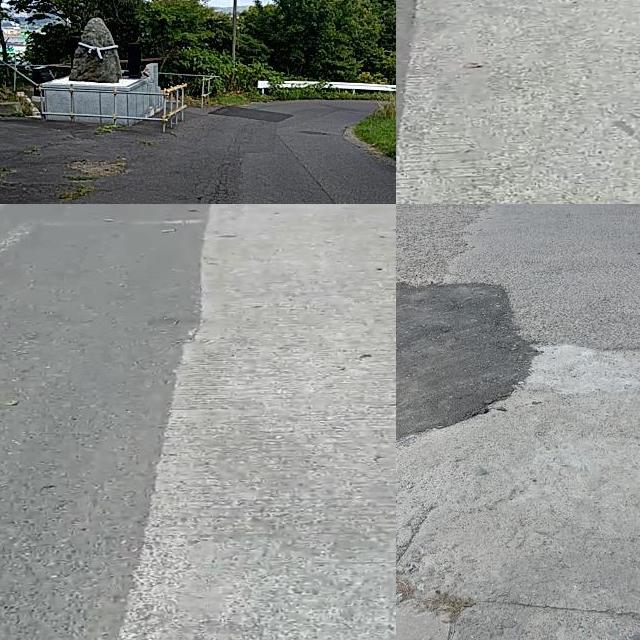Sambungan: (107, 204, 396, 640), (396, 0, 640, 204), (396, 290, 537, 440), (209, 104, 295, 126)
